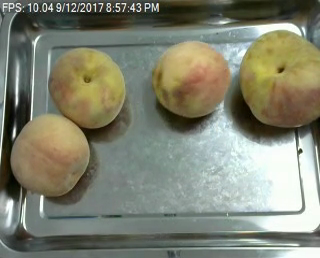Peach: (239, 28, 319, 127), (9, 112, 90, 197), (48, 46, 126, 129), (150, 41, 231, 117)
